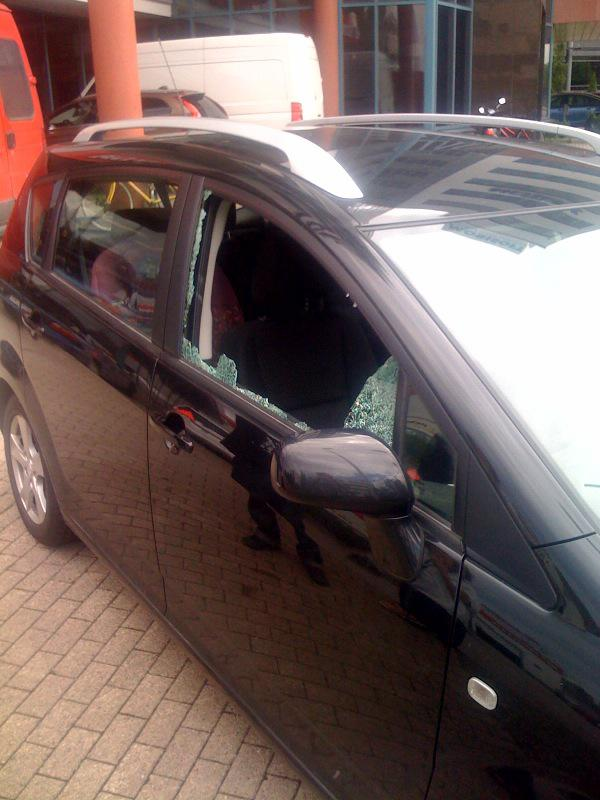doorouter-dent: (179, 206, 414, 660)
